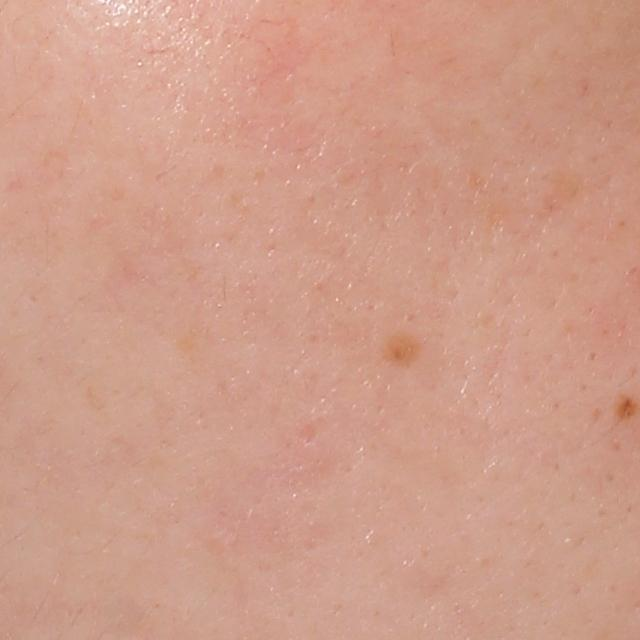atrophic_scar: (297, 421, 316, 448)
nevus: (614, 391, 640, 425)
